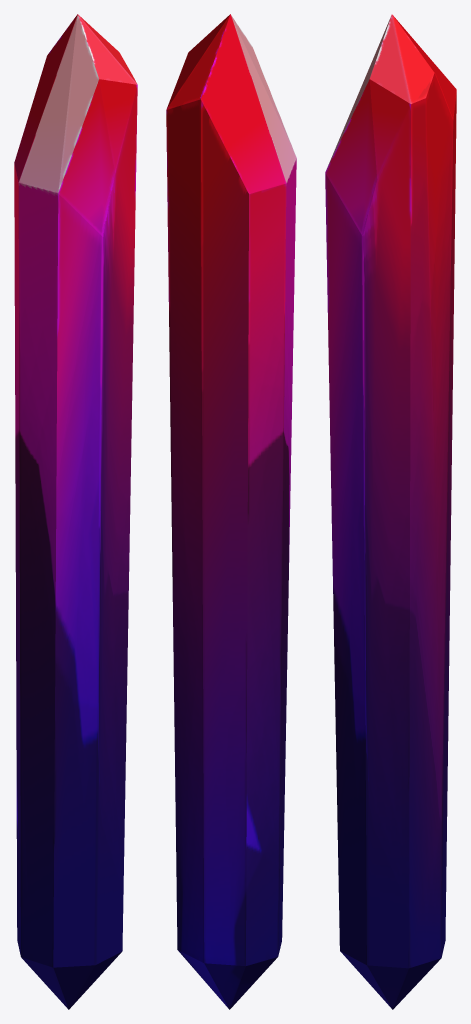
File: crystal.fbx
The picture shows the model from 3 angles, left to right: view 1: azimuth 30°, elevation 25°; view 2: azimuth 150°, elevation 25°; view 3: azimuth 330°, elevation 25°; orthographic projection.
Parts seen in each view (by area): view 1: crystal17_2.001; view 2: crystal17_2.001; view 3: crystal17_2.001.
Boxes of the visible parts, x1,y1,x2,y2 form: crystal17_2.001: [14, 14, 137, 1009]; crystal17_2.001: [166, 14, 296, 1009]; crystal17_2.001: [325, 14, 456, 1009].
Bounding box in the file's own units: 0.1795 × 1.61 × 0.1679.
